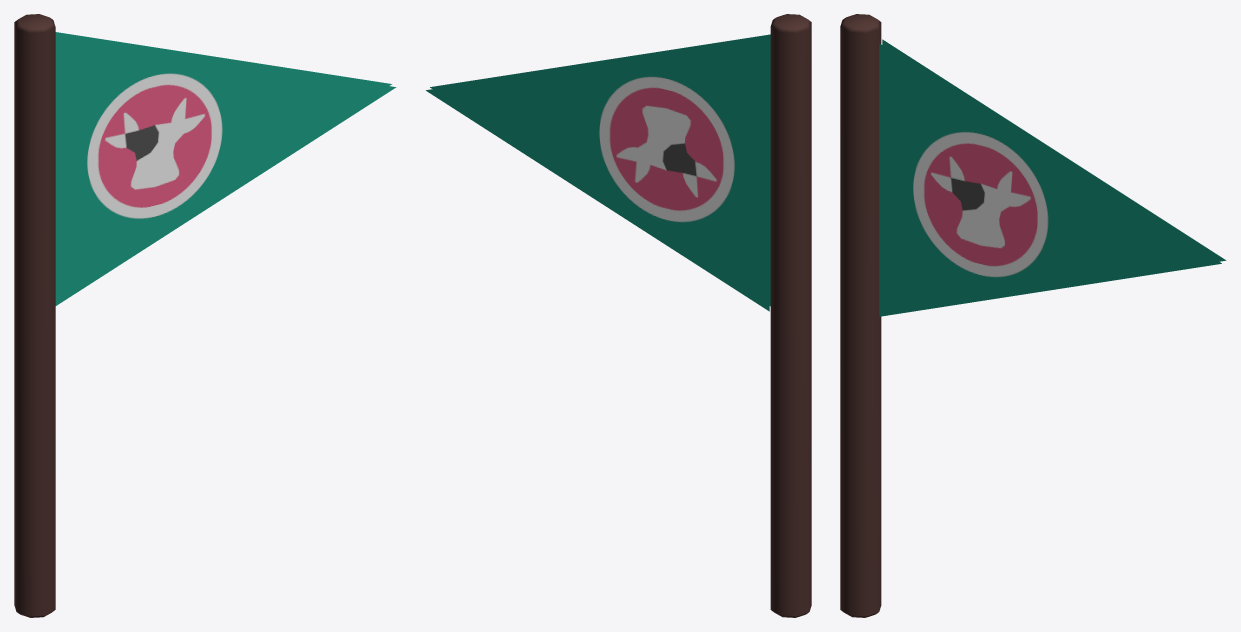
File: Bosua_flag.fbx
3 views of the same model, side by side, from view 1: azimuth 30°, elevation 25°; view 2: azimuth 150°, elevation 25°; view 3: azimuth 330°, elevation 25° (orthographic).
Visible parts, largest first — view 1: Bosua_flag; view 2: Bosua_flag; view 3: Bosua_flag.
Part boxes in pixels (<box>): Bosua_flag: <box>14,14,396,617</box>; Bosua_flag: <box>426,14,811,617</box>; Bosua_flag: <box>840,14,1226,617</box>.
Bounding box in the file's own units: 149 × 222 × 14.51.
